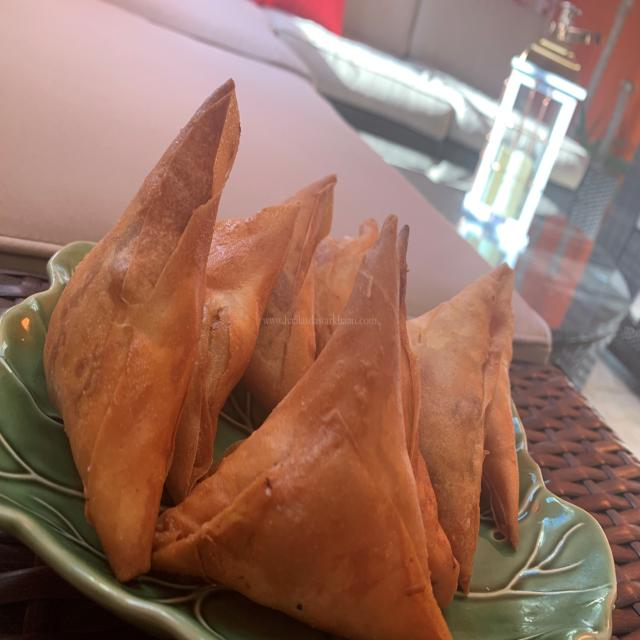SAMOSA: (152, 221, 451, 640), (44, 81, 239, 580), (407, 265, 519, 593), (177, 204, 300, 493), (243, 176, 336, 411)
